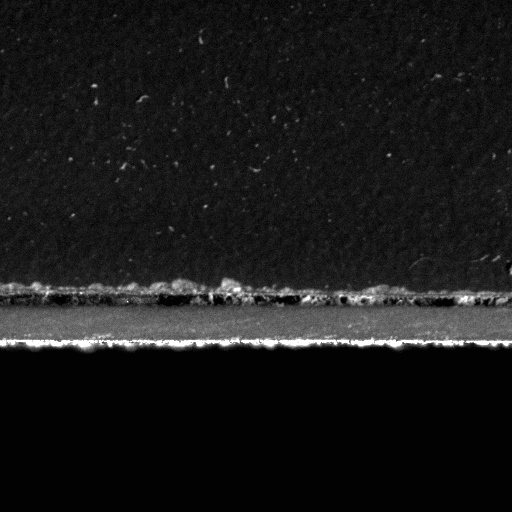jiaofeng: (0, 287, 238, 311), (382, 290, 457, 311), (249, 289, 300, 312), (475, 290, 511, 310)
